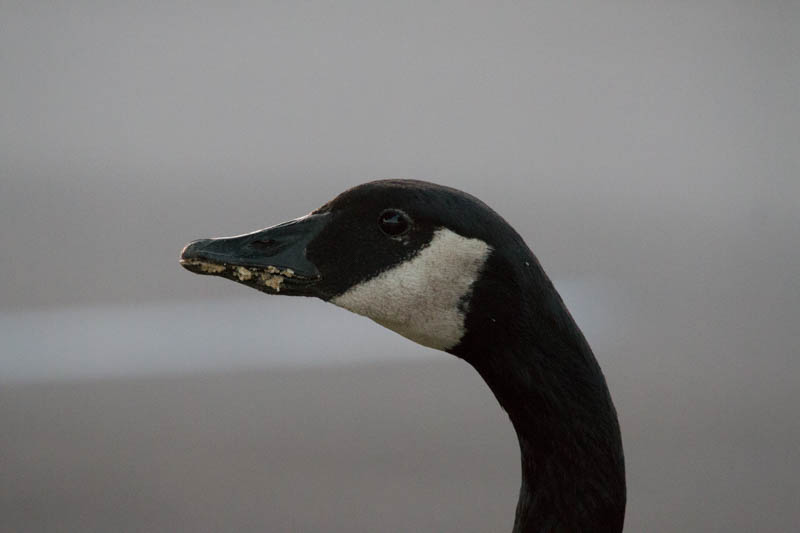goose-head: (177, 177, 590, 353)
